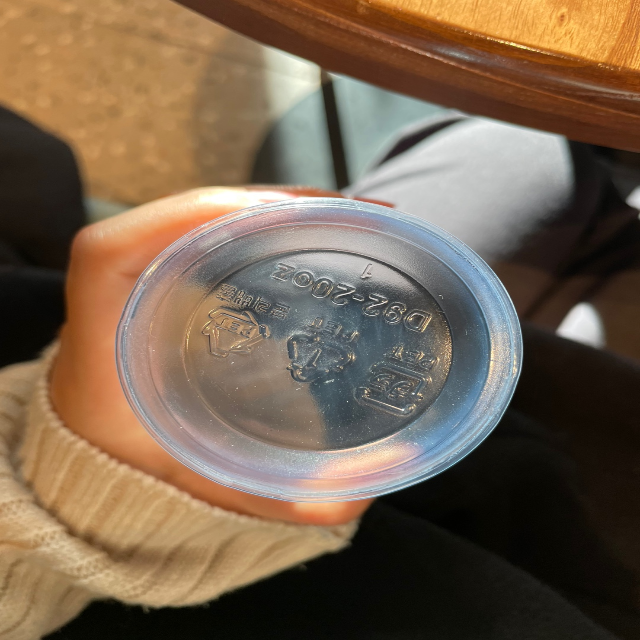pet: (194, 274, 293, 368), (353, 341, 446, 422), (283, 309, 361, 396)
